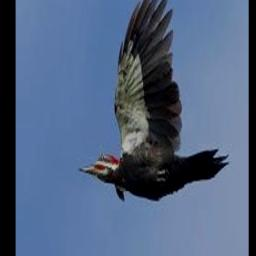Woodpecker: (77, 0, 230, 200)
